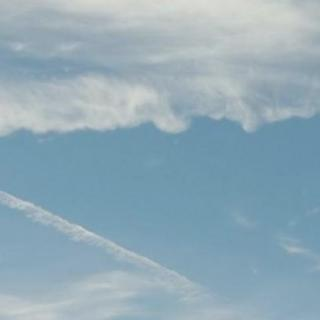Cirrus: (0, 0, 320, 170)
